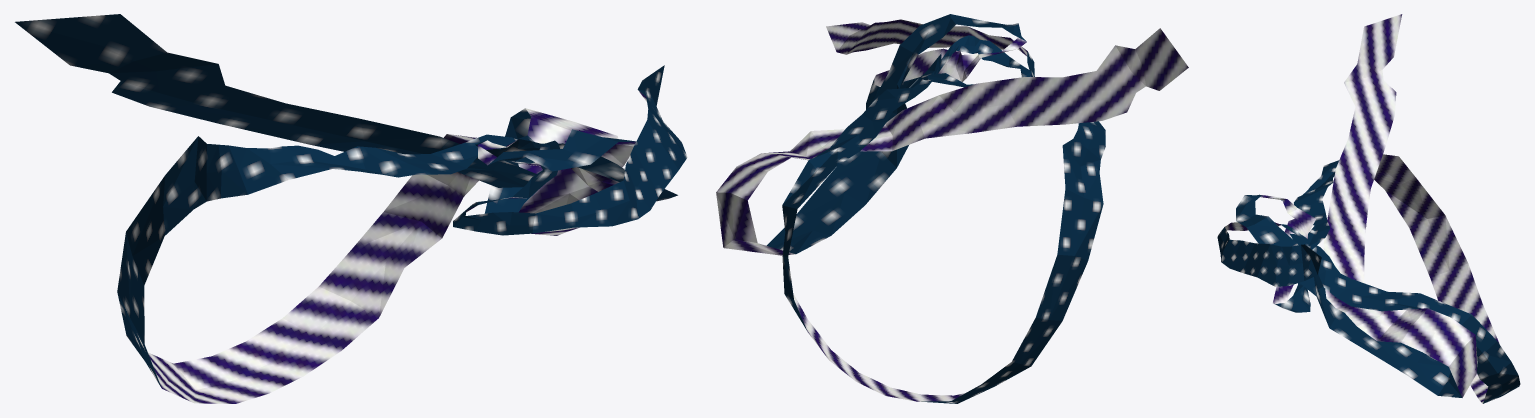
3 renders of one model, left to right at view 1: azimuth 30°, elevation 25°; view 2: azimuth 150°, elevation 25°; view 3: azimuth 270°, elevation 25°, orthographic. The views are drawn at different scales.
Parts seen in each view (by area): view 1: Mesh2; view 2: Mesh2; view 3: Mesh2.
Boxes of the visible parts, bbox=[...] form: Mesh2: bbox=[15, 14, 687, 403]; Mesh2: bbox=[716, 14, 1188, 403]; Mesh2: bbox=[1217, 14, 1520, 403].
Size of the model in its own units: 1.05 by 0.8154 by 0.7574.
2 materials, 2 textured.
